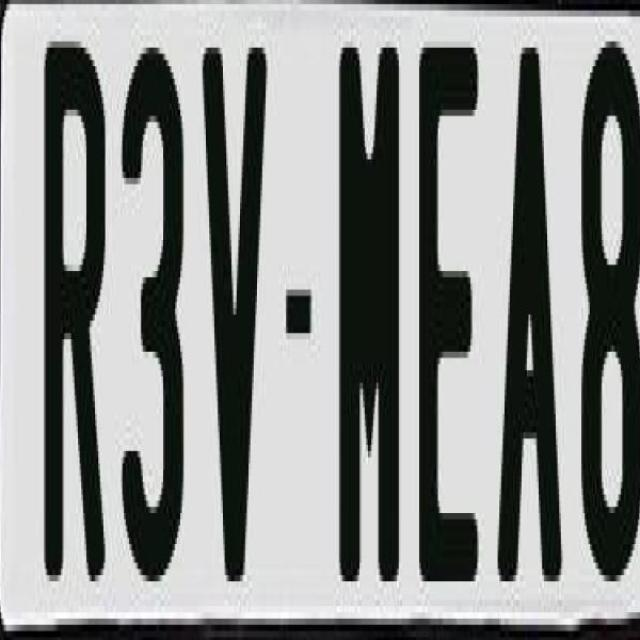license-plate: (11, 2, 639, 640)
